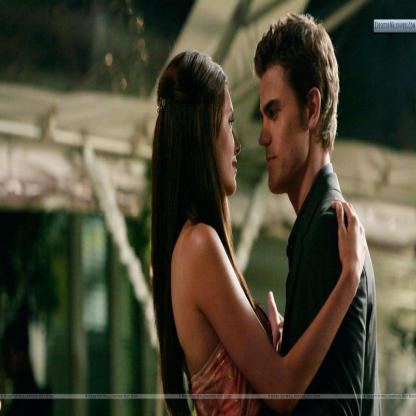face: (259, 55, 304, 198), (205, 65, 242, 193)
